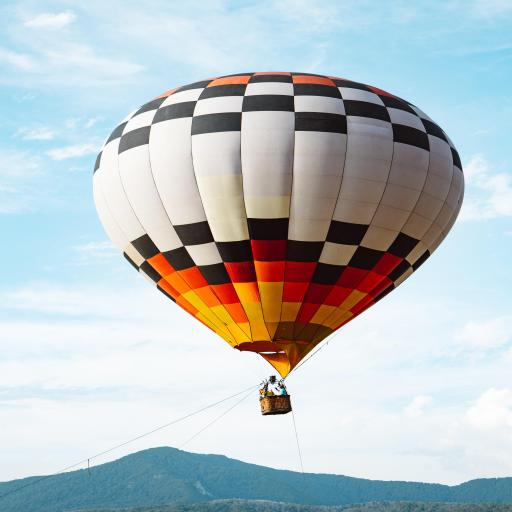hot air ballon: (90, 71, 465, 416)
